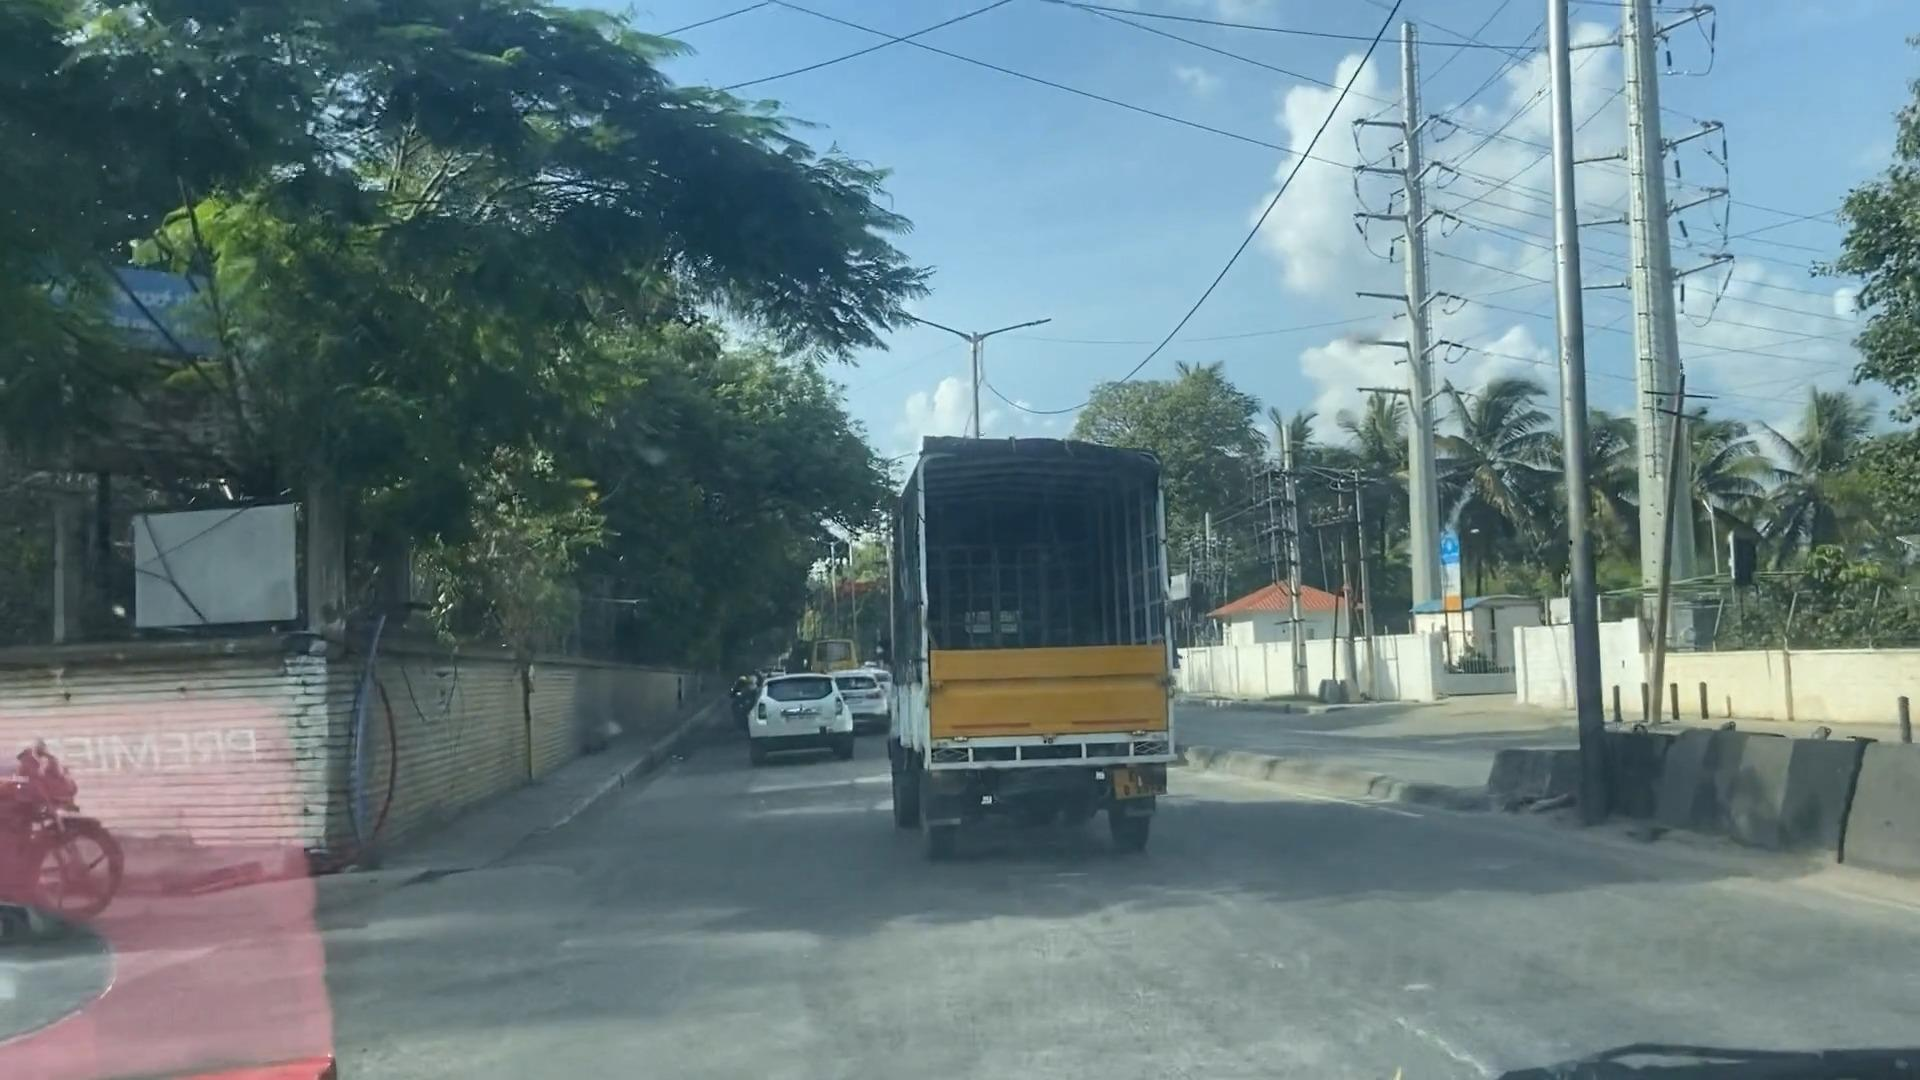HMV: (897, 427, 1184, 864)
LMV: (749, 670, 855, 753)
RoadDamages: (0, 905, 305, 1035)
UnsurfacedRoad: (1302, 956, 1499, 1080)
